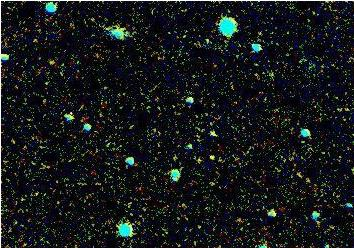star: (195, 142, 225, 172)
